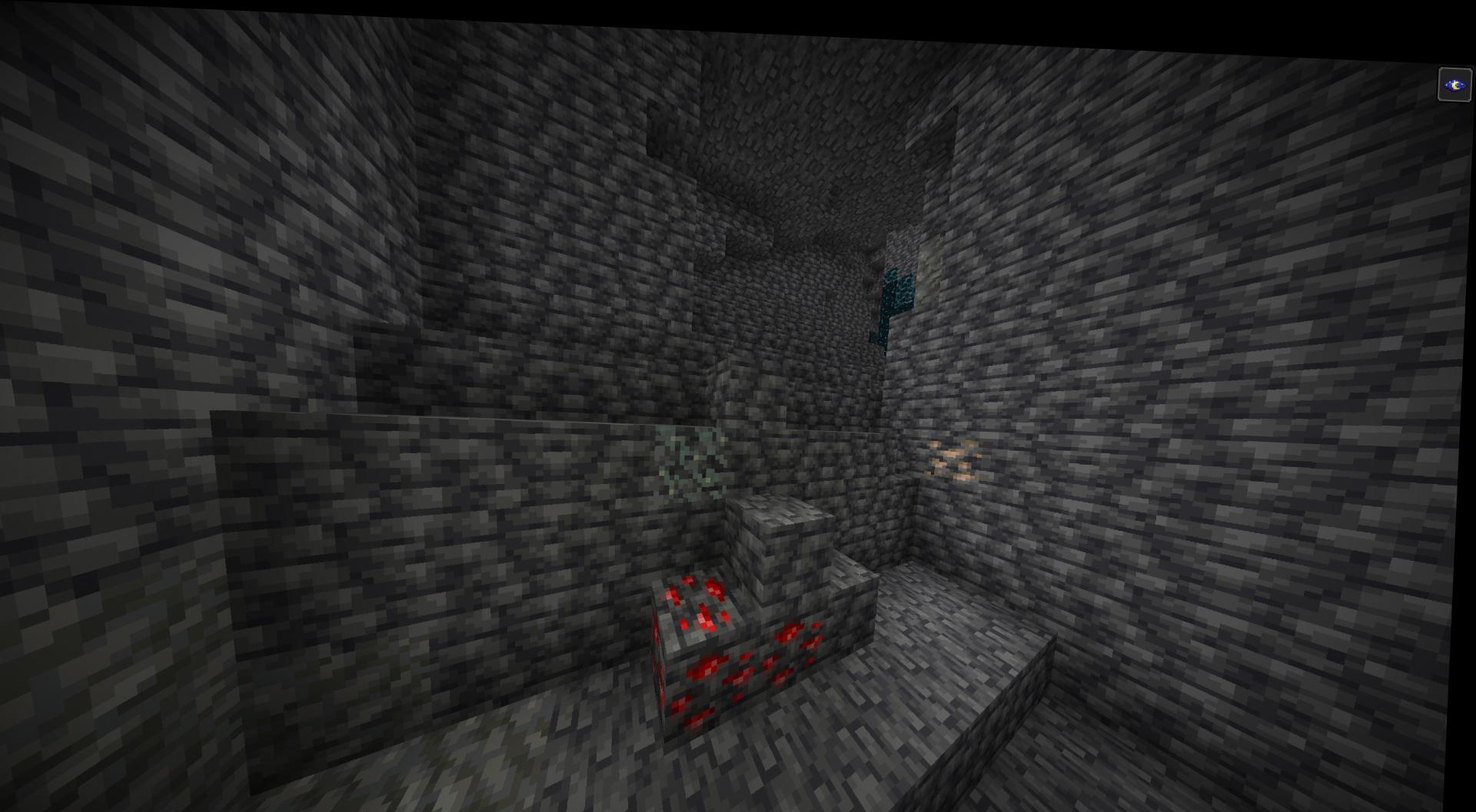iron ore: (919, 426, 983, 476)
redstone ore: (678, 643, 755, 727), (662, 564, 741, 642), (762, 609, 830, 694)
